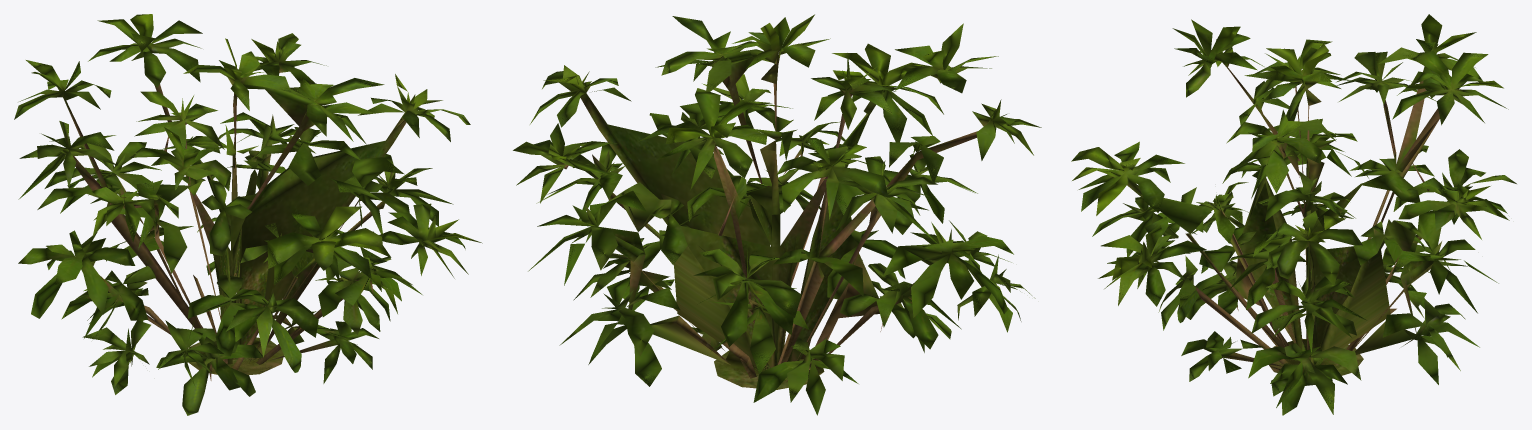
File: VEG_ArbustoTropical_03_LOD1.fbx
The picture shows the model from 3 angles, left to right: view 1: azimuth 30°, elevation 25°; view 2: azimuth 150°, elevation 25°; view 3: azimuth 270°, elevation 25°; orthographic projection. The views are drawn at different scales.
Parts seen in each view (by area): view 1: VEG_ArbustoTropical_03_Mesh000; view 2: VEG_ArbustoTropical_03_Mesh000; view 3: VEG_ArbustoTropical_03_Mesh000.
Boxes of the visible parts, bbox=[...] form: VEG_ArbustoTropical_03_Mesh000: bbox=[14, 14, 482, 415]; VEG_ArbustoTropical_03_Mesh000: bbox=[513, 14, 1041, 415]; VEG_ArbustoTropical_03_Mesh000: bbox=[1071, 14, 1516, 415].
Size of the model in its own units: 2.55 by 1.8 by 2.33.
